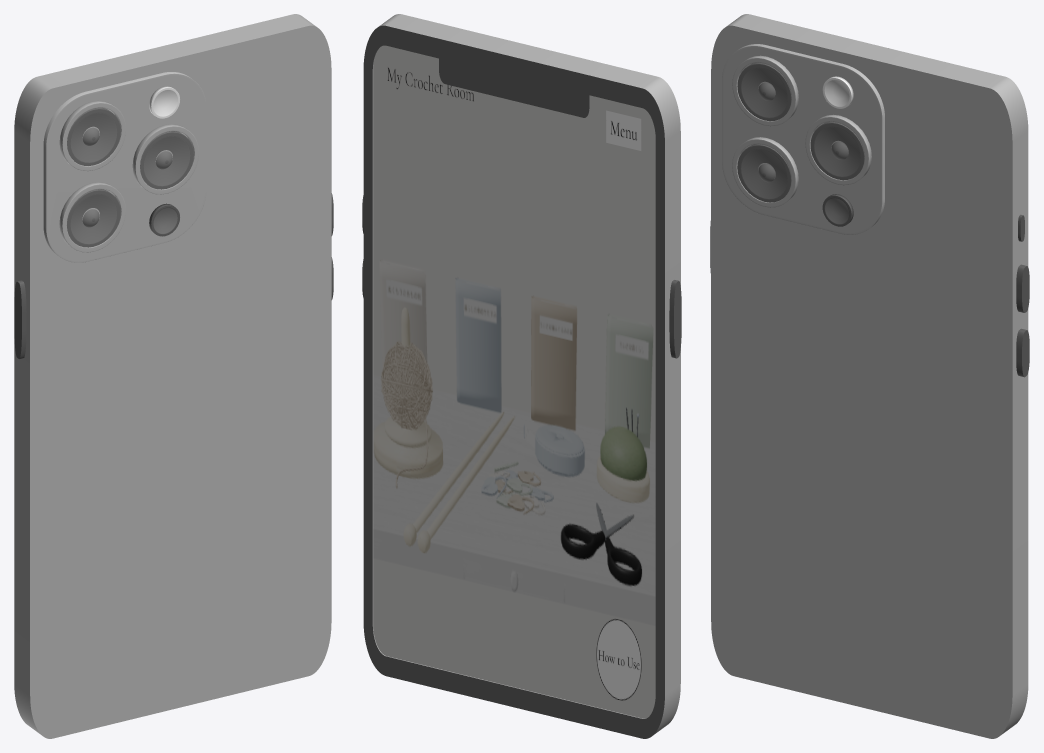
Rendered from room-sp.glb.
3 views of the same model, side by side, from view 1: azimuth 30°, elevation 25°; view 2: azimuth 150°, elevation 25°; view 3: azimuth 330°, elevation 25° (orthographic).
Parts seen in each view (by area): view 1: Cube.001, Cube, Cylinder.002, Cylinder.011, Cylinder.009, Cylinder.001, Cylinder.008, Cylinder.012, Cylinder.007, Cylinder.010, Cylinder, Cube.006 (+2 smaller); view 2: Cube.001, Cube.006; view 3: Cube.001, Cube, Cylinder.009, Cylinder.002, Cylinder.011, Cylinder.001, Cylinder.008, Cylinder.012, Cylinder.007, Cylinder.010, Cylinder, Cylinder.003 (+3 smaller).
Boxes of the visible parts, x1=… form: Cube.001: x1=14, y1=14, x2=331, y2=738; Cube: x1=43, y1=72, x2=206, y2=262; Cylinder.002: x1=67, y1=107, x2=120, y2=165; Cylinder.011: x1=140, y1=131, x2=193, y2=189; Cylinder.009: x1=67, y1=189, x2=120, y2=247; Cylinder.001: x1=71, y1=108, x2=120, y2=162; Cylinder.008: x1=71, y1=189, x2=120, y2=243; Cylinder.012: x1=144, y1=132, x2=193, y2=185; Cylinder.007: x1=59, y1=182, x2=125, y2=252; Cylinder.010: x1=132, y1=124, x2=198, y2=194; Cylinder: x1=59, y1=100, x2=125, y2=170; Cube.006: x1=14, y1=280, x2=26, y2=359; Cube.001: x1=363, y1=14, x2=680, y2=738; Cube.006: x1=669, y1=280, x2=681, y2=358; Cube.001: x1=711, y1=14, x2=1028, y2=738; Cube: x1=722, y1=44, x2=884, y2=234; Cylinder.009: x1=737, y1=144, x2=791, y2=202; Cylinder.002: x1=737, y1=62, x2=791, y2=121; Cylinder.011: x1=810, y1=121, x2=864, y2=180; Cylinder.001: x1=737, y1=63, x2=787, y2=117; Cylinder.008: x1=737, y1=144, x2=787, y2=198; Cylinder.012: x1=811, y1=122, x2=860, y2=176; Cylinder.007: x1=732, y1=137, x2=798, y2=207; Cylinder.010: x1=805, y1=114, x2=871, y2=185; Cylinder: x1=732, y1=55, x2=798, y2=126; Cylinder.003: x1=822, y1=76, x2=853, y2=108.
Size of the model in its own units: 2.34 by 4.66 by 0.2792.
5 materials, 1 textured.
